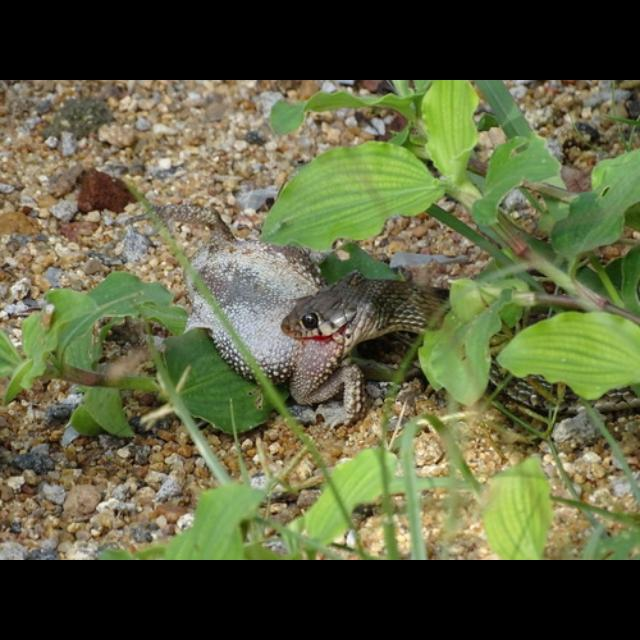snake: (280, 270, 640, 416)
